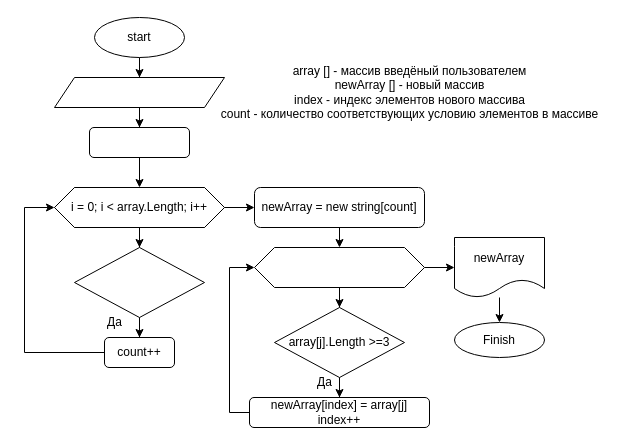
Image size: 627x445. Some labels were removed from this diagram. The centre of each missing label's shape, as x and y in pixels:
"array[]" belongs at point (139, 92).
"array[i].Length >=3" belongs at point (139, 282).
"index = 0, count = 0" belongs at point (139, 142).
"j = 0; j < array.Length; j++" belongs at point (339, 267).
